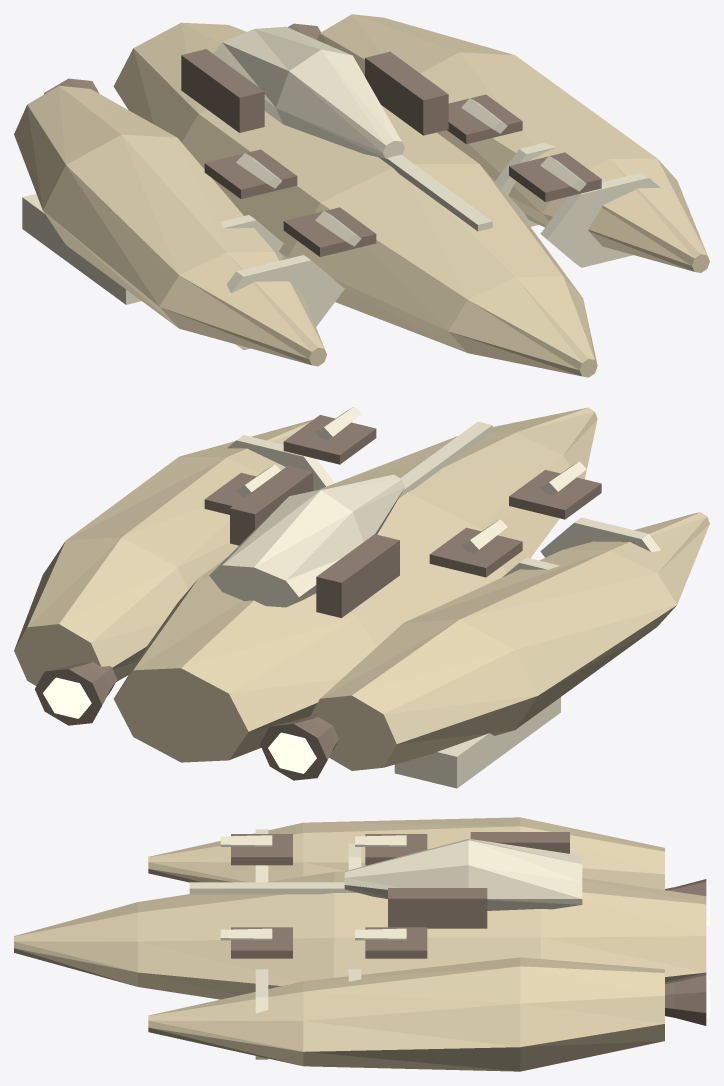
The picture shows the model from 3 angles, top to bottom: view 1: azimuth 30°, elevation 25°; view 2: azimuth 150°, elevation 25°; view 3: azimuth 270°, elevation 25°; orthographic projection. The views are drawn at different scales.
Bounding box in the file's own units: 12.3 × 4.29 × 16.85.
